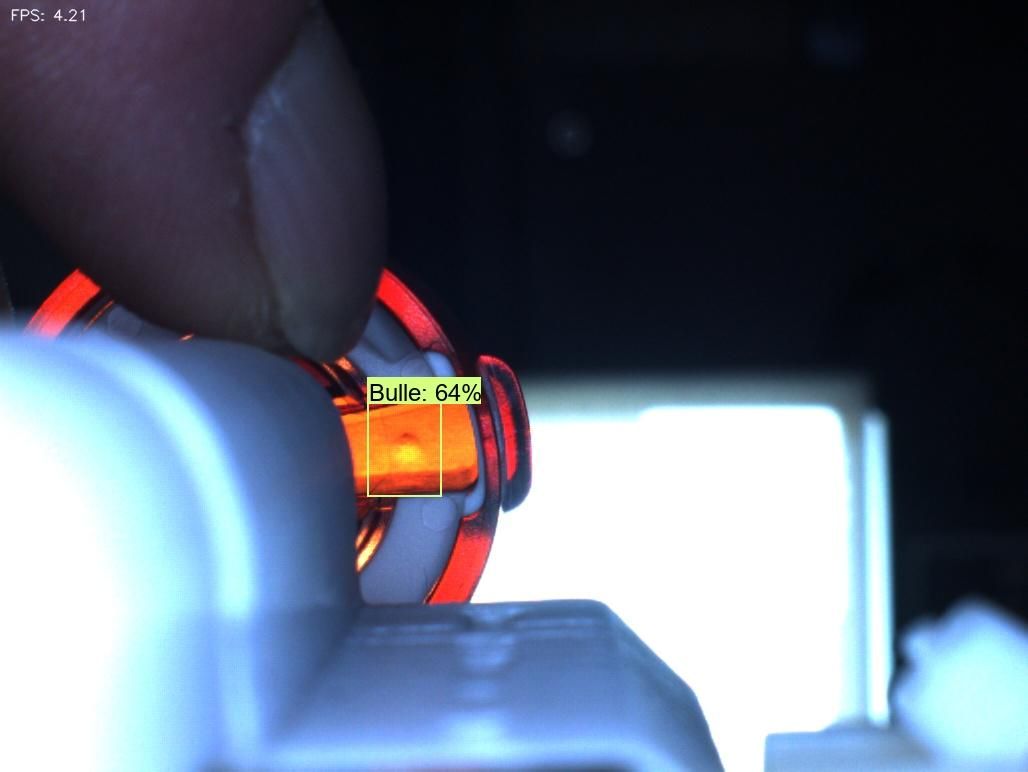Retassure: (372, 415, 447, 488)
